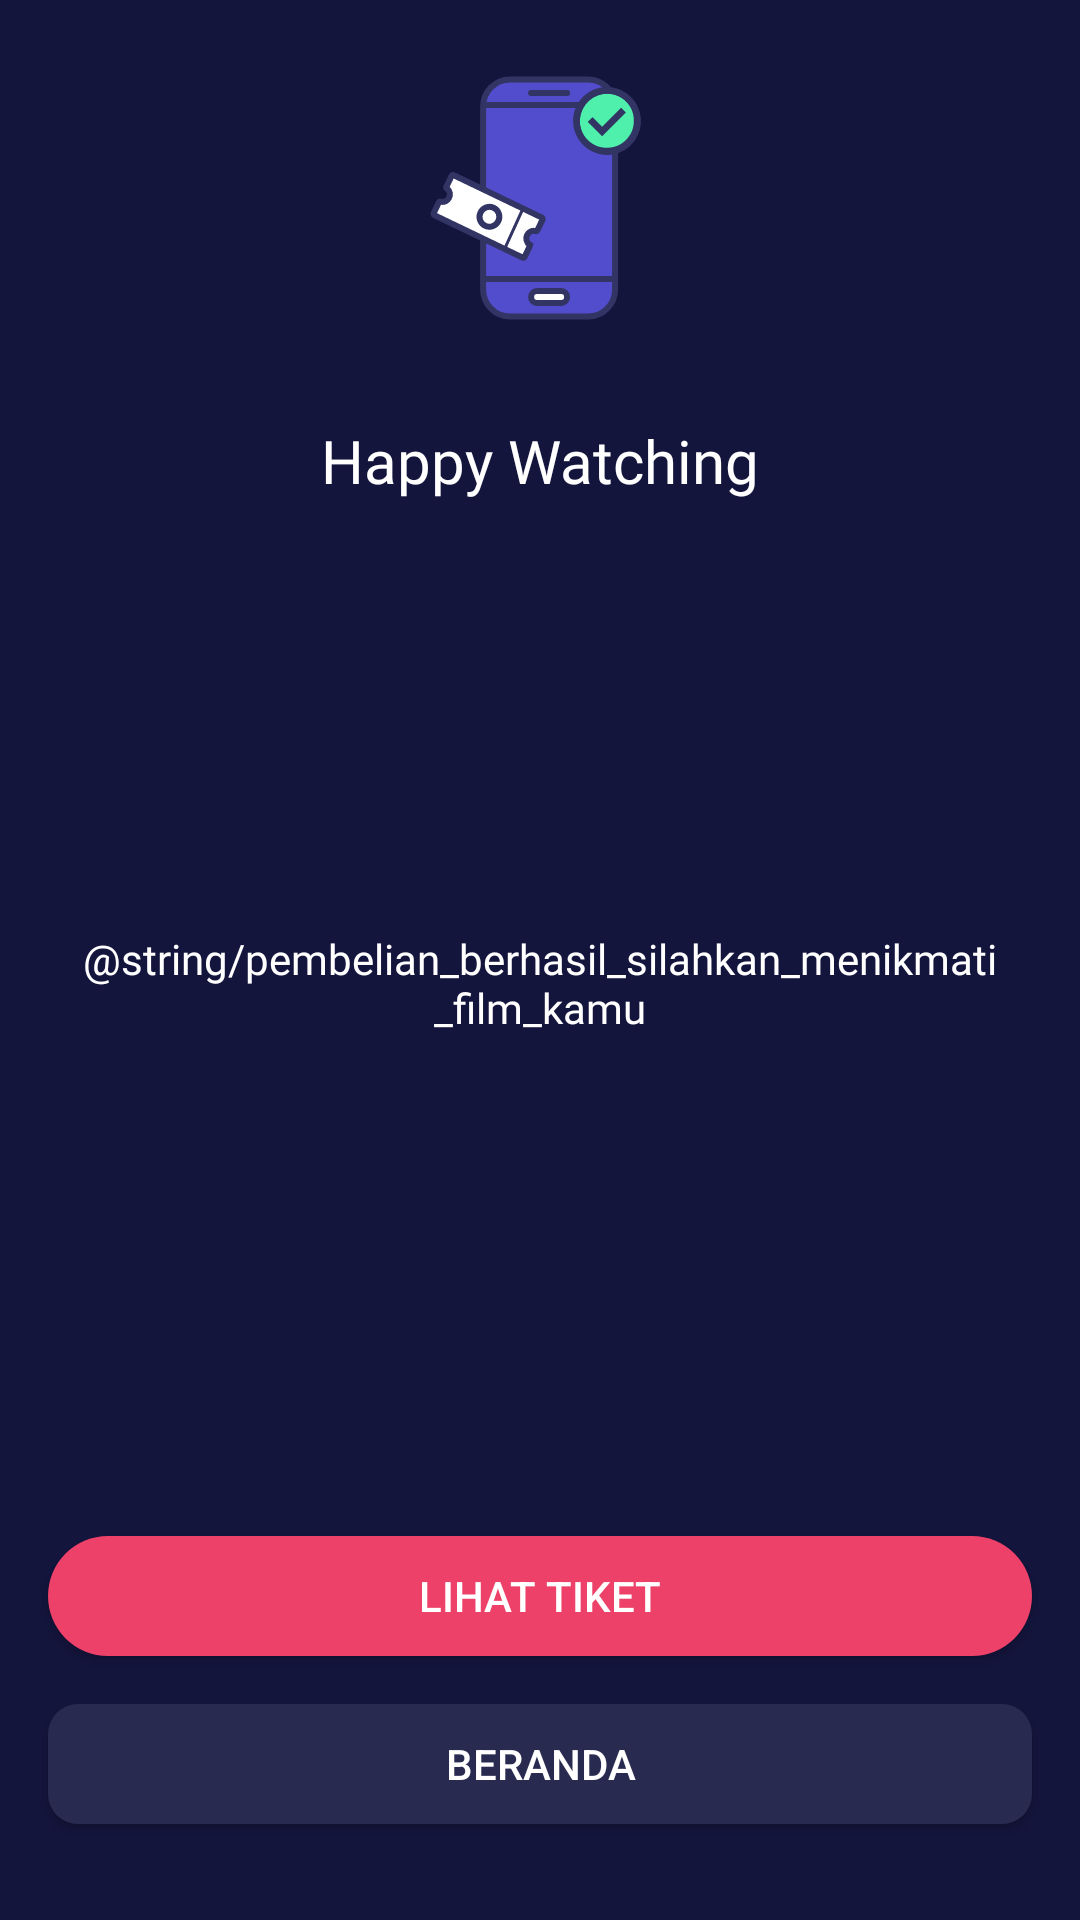

Screen size 1080px×1920px. Icon name, then its box in pixels as (x1, y1, x2, y2):
ticket success: (431, 77, 641, 319)
